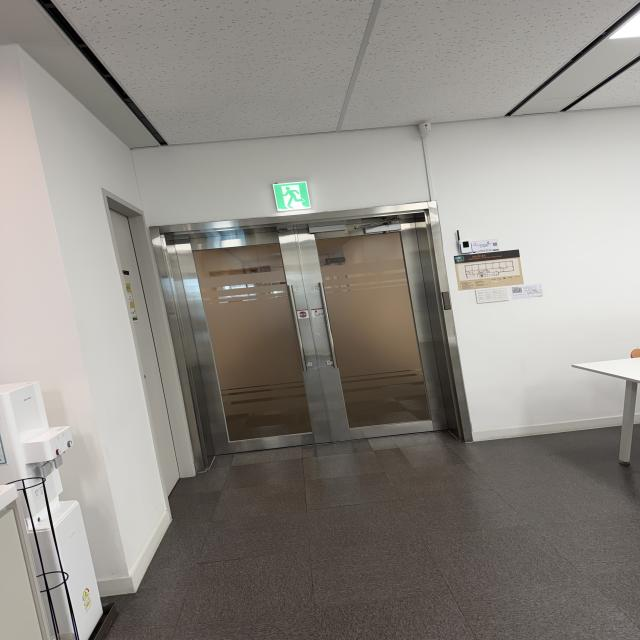rear_door: (168, 213, 459, 458)
